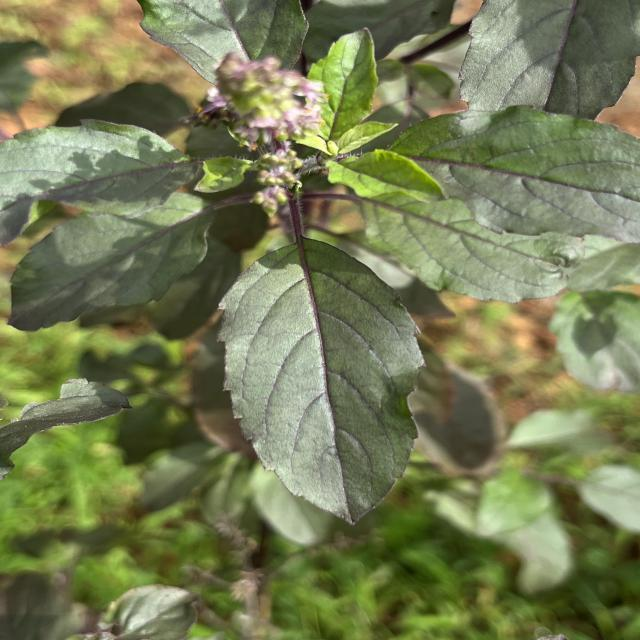Ocimum tenuiflorum: (215, 234, 431, 528)
